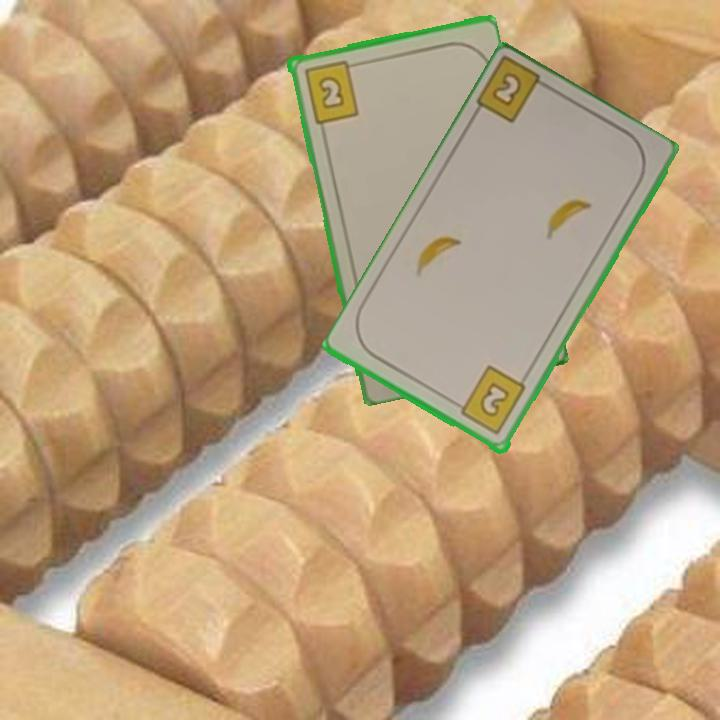2b: (473, 56, 557, 127), (450, 363, 529, 438), (300, 57, 361, 126)
